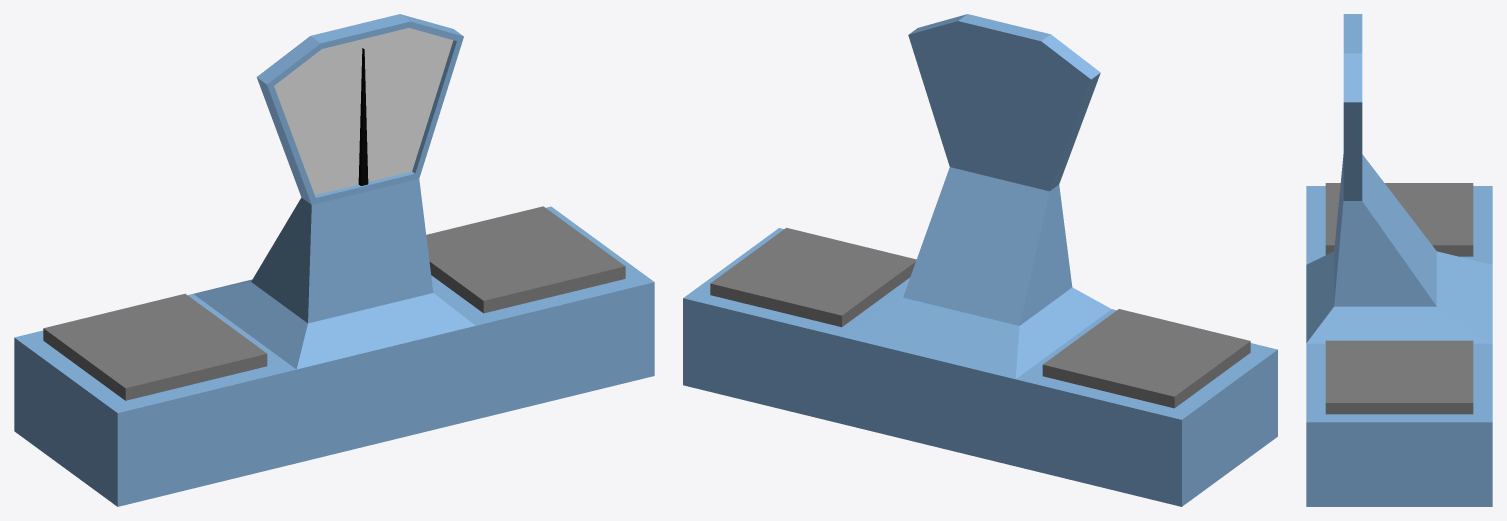
Rendered from vesi.fbx.
3 views of the same model, side by side, from view 1: azimuth 30°, elevation 25°; view 2: azimuth 150°, elevation 25°; view 3: azimuth 270°, elevation 25° (orthographic). The views are drawn at different scales.
Visible parts, largest first — view 1: vesi, strelka; view 2: vesi; view 3: vesi.
Part boxes in pixels (x1,y1,x2,y2): vesi: (14, 14, 654, 506); strelka: (358, 48, 368, 185); vesi: (683, 14, 1277, 506); vesi: (1306, 14, 1492, 506).
Size of the model in its own units: 599 by 420 by 200.
